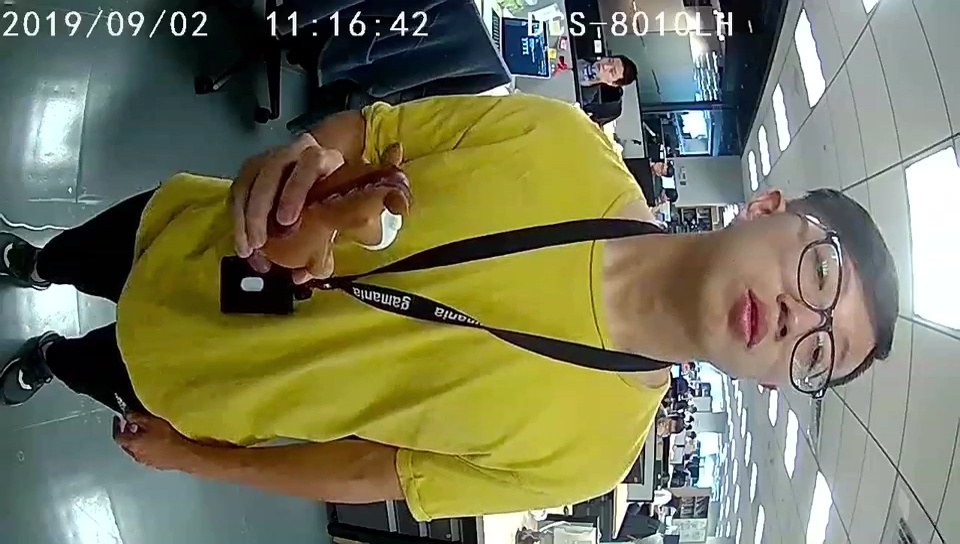horse: (318, 142, 415, 278)
